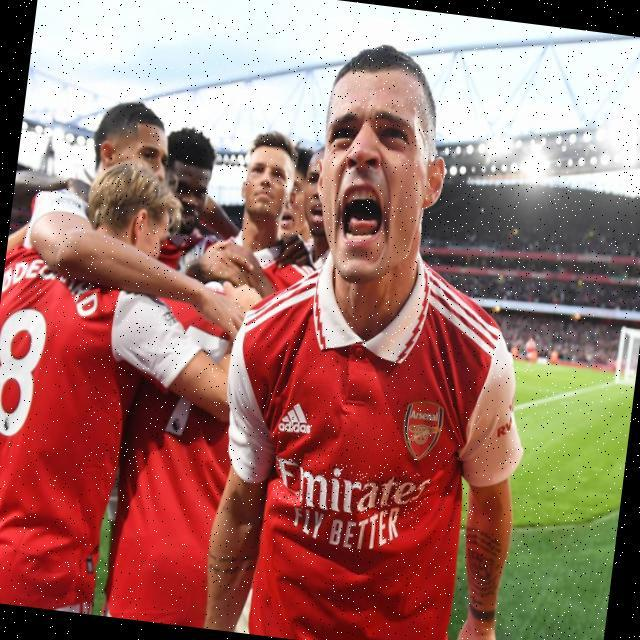Adidas: (277, 401, 314, 439)
Emirates: (270, 455, 431, 523)
